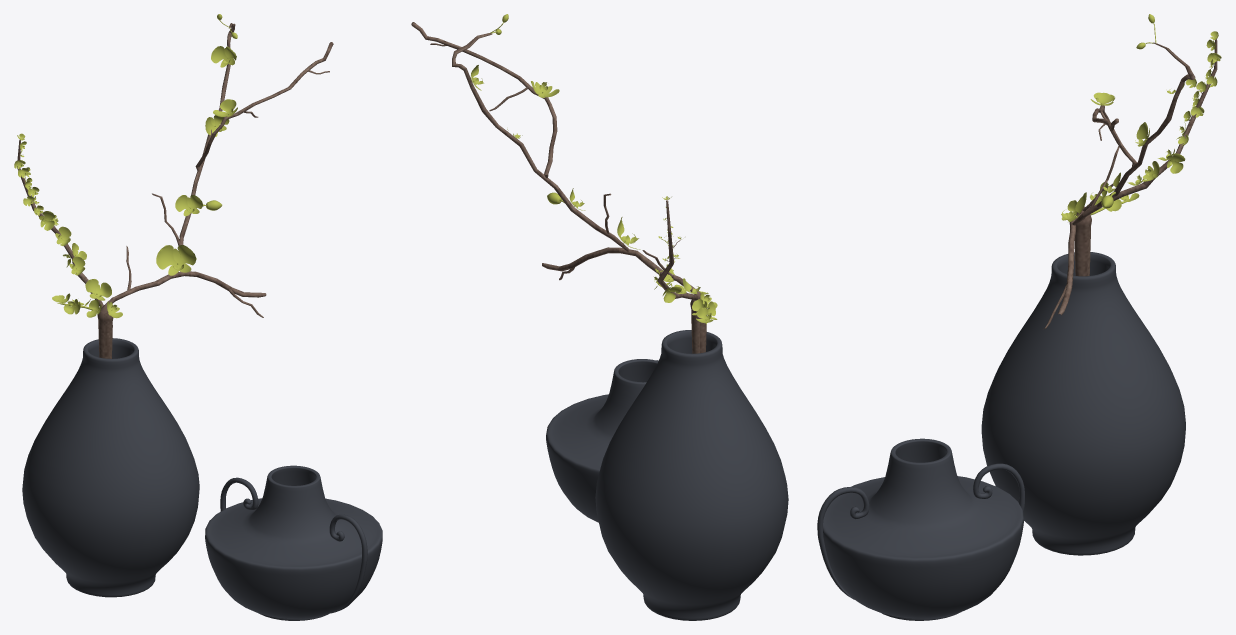
File: plant.glb
3 views of the same model, side by side, from view 1: azimuth 30°, elevation 25°; view 2: azimuth 150°, elevation 25°; view 3: azimuth 270°, elevation 25° (orthographic). The views are drawn at different scales.
Parts seen in each view (by area): view 1: plant; view 2: plant; view 3: plant.
Part boxes in pixels (<box>): plant: <box>14,14,382,620</box>; plant: <box>411,14,788,620</box>; plant: <box>817,14,1221,620</box>.
Bounding box in the file's own units: 0.1991 × 0.3121 × 0.1909.
Materials: 3 (1 with a texture image).
